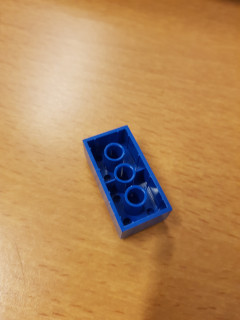2x4 blue: (80, 122, 174, 241)
